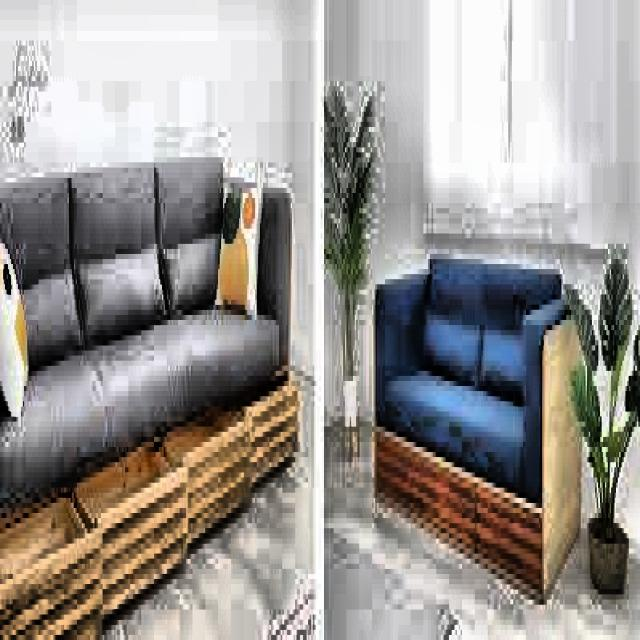sofa: (377, 243, 584, 614), (0, 173, 297, 406)
